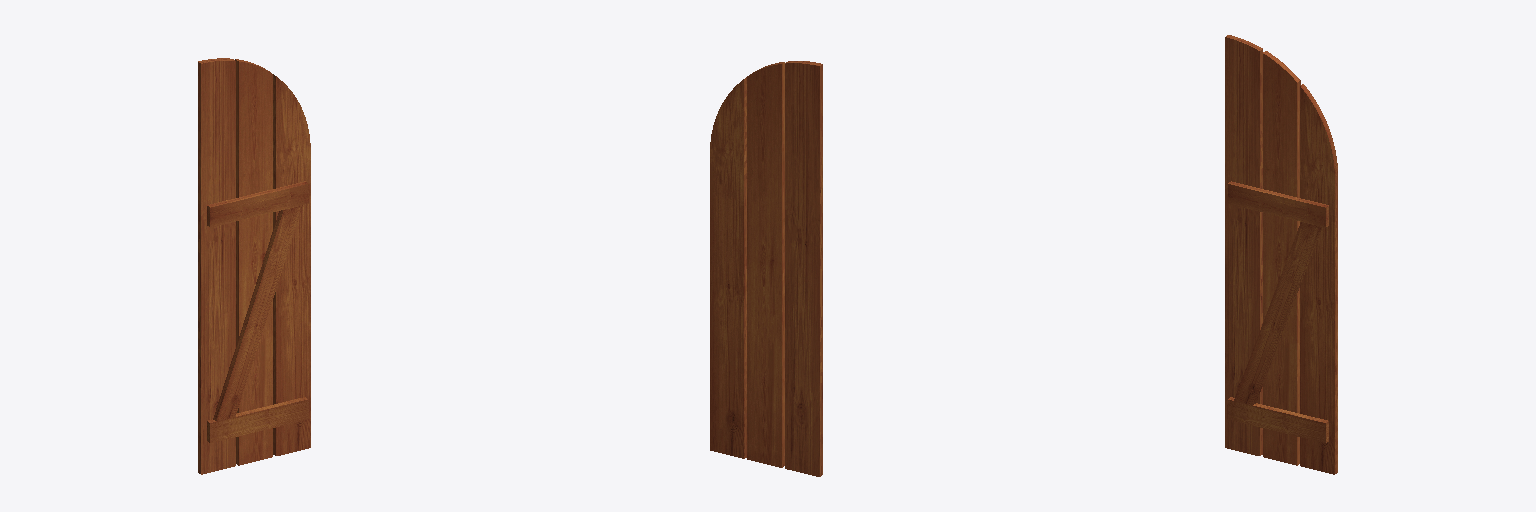
The picture shows the model from 3 angles: view 1: azimuth 30°, elevation 25°; view 2: azimuth 150°, elevation 25°; view 3: azimuth 330°, elevation 25°; orthographic projection.
Visible parts, largest first — view 1: shutter003, shutter002, shutter001, shutter004, shutter005; view 2: shutter003, shutter002, shutter001; view 3: shutter002, shutter003, shutter001, shutter004, shutter005.
Boxes of the visible parts, box(x1,y1,x2,y2) form: shutter003: box(198, 58, 235, 474); shutter002: box(207, 59, 308, 465); shutter001: box(273, 74, 310, 455); shutter004: box(213, 205, 302, 421); shutter005: box(207, 181, 308, 227); shutter003: box(785, 61, 822, 476); shutter002: box(747, 62, 784, 467); shutter001: box(710, 76, 747, 458); shutter002: box(1228, 51, 1328, 465); shutter003: box(1225, 35, 1262, 455); shutter001: box(1300, 84, 1337, 474); shutter004: box(1234, 222, 1321, 404); shutter005: box(1228, 181, 1328, 227).
Size of the model in its own units: 14.25 by 51 by 1.5.
Materials: 5 (5 with a texture image).